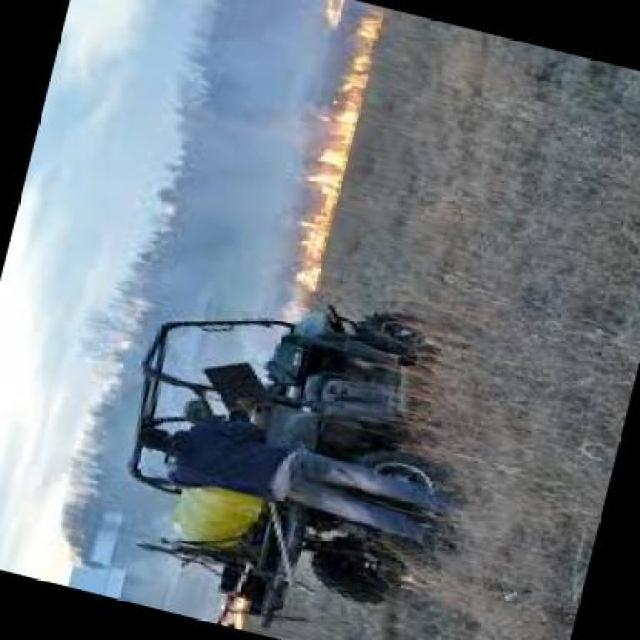Fire: (306, 11, 376, 299)
Smoke: (77, 31, 282, 292), (17, 329, 140, 586)
